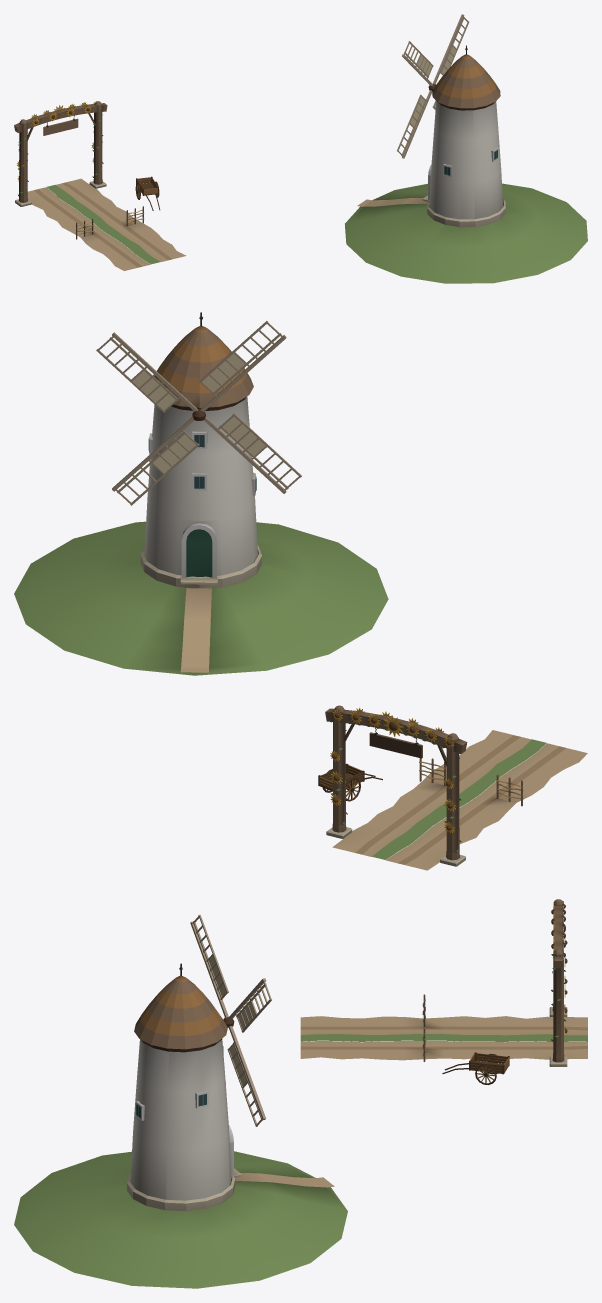
The model's file is pav_farm_arch.glb.
3 views of the same model, one above another, from view 1: azimuth 30°, elevation 25°; view 2: azimuth 150°, elevation 25°; view 3: azimuth 270°, elevation 25° (orthographic). The views are drawn at different scales.
Parts seen in each view (by area): view 1: static_windmill, static_farm_arch, live_sails; view 2: static_windmill, static_farm_arch, live_sails; view 3: static_windmill, static_farm_arch, live_sails.
Boxes of the visible parts, box(x1,y1,x2,y2) form: static_windmill: box(345, 45, 587, 283); static_farm_arch: box(14, 101, 186, 270); live_sails: box(397, 14, 469, 158); static_windmill: box(14, 312, 388, 675); static_farm_arch: box(318, 705, 587, 870); live_sails: box(96, 321, 301, 505); static_windmill: box(14, 963, 347, 1288); static_farm_arch: box(300, 899, 587, 1084); live_sails: box(190, 914, 271, 1126).
Bounding box in the file's own units: 31.35 × 14.21 × 27.36.
